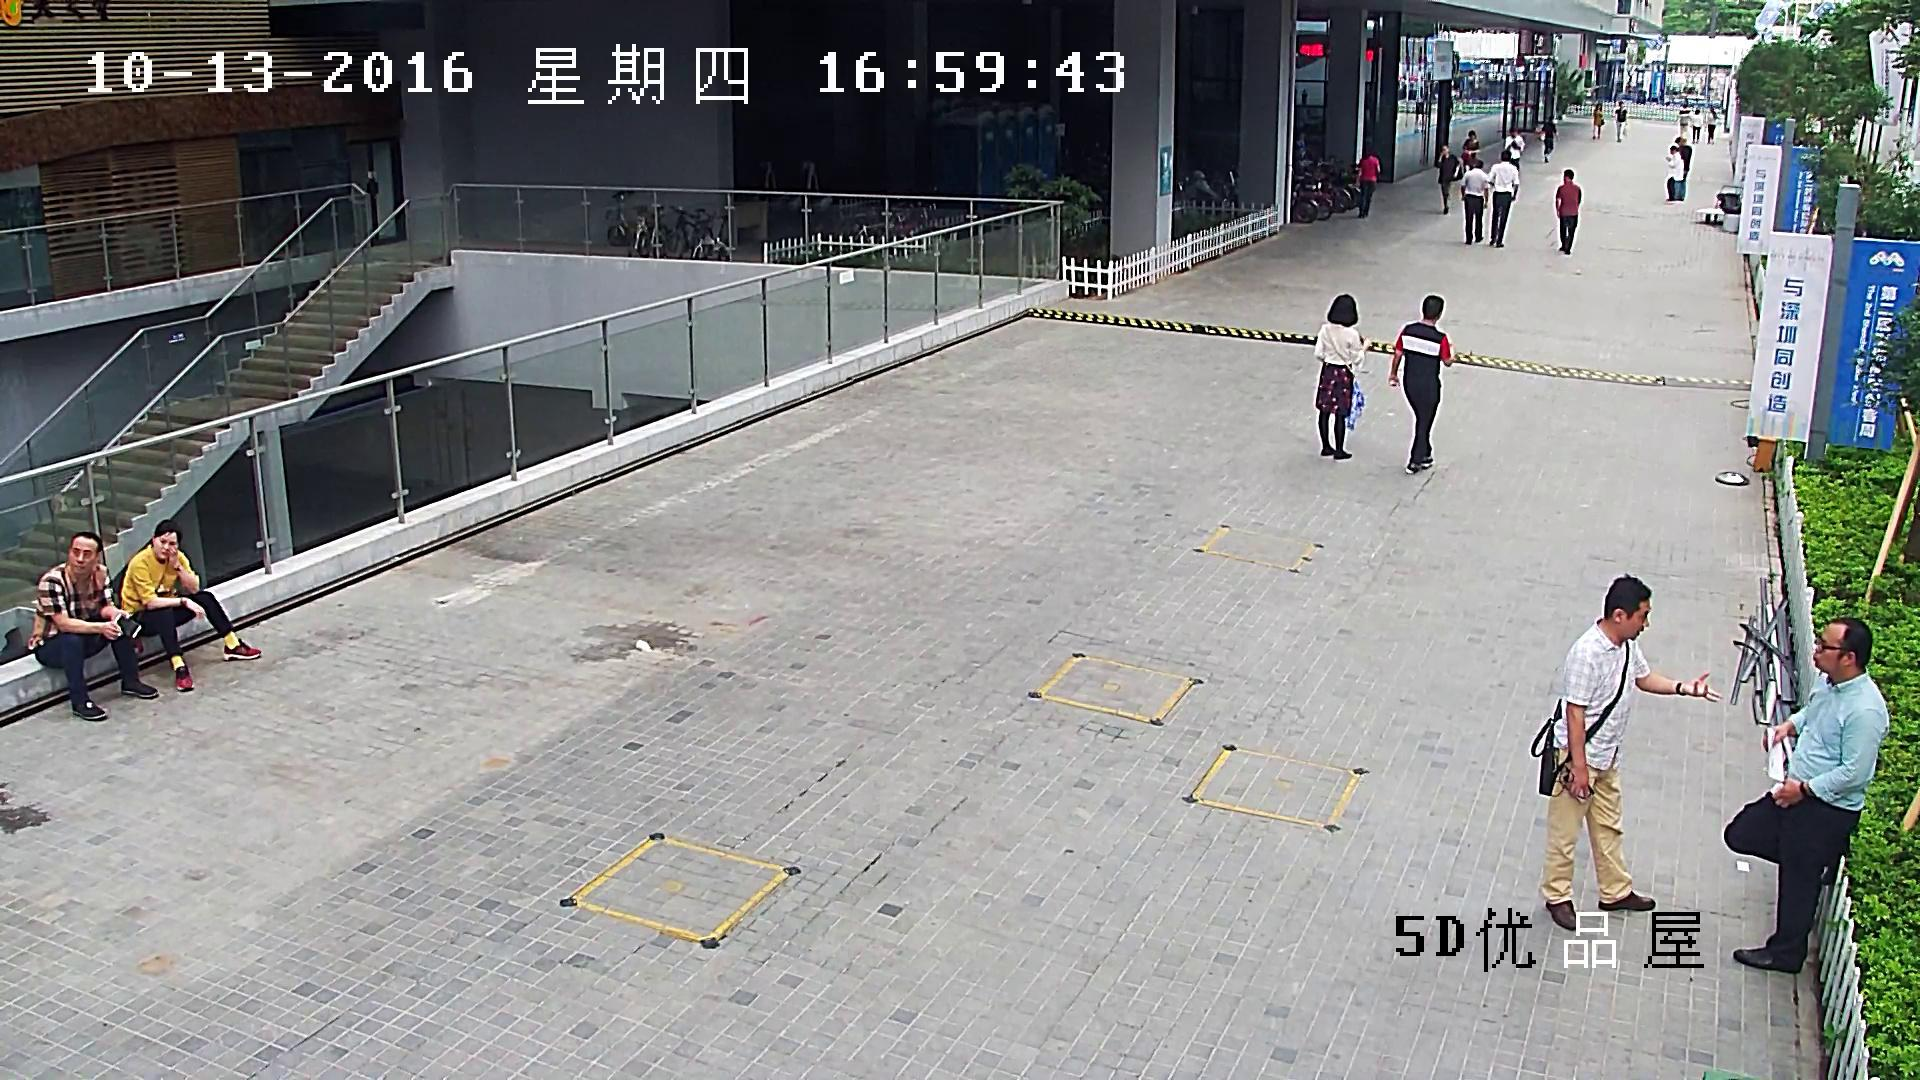person: (1530, 574, 1722, 929), (1723, 618, 1890, 973), (30, 532, 158, 721), (121, 520, 261, 691), (1388, 295, 1454, 473), (1314, 294, 1369, 459), (1488, 149, 1518, 248), (1460, 160, 1490, 244), (1556, 169, 1581, 254), (1432, 143, 1460, 213), (1355, 147, 1380, 218), (1674, 136, 1691, 201), (1665, 145, 1684, 201), (1460, 130, 1479, 172), (1503, 126, 1524, 165), (1542, 114, 1557, 163), (1676, 104, 1691, 138), (1703, 105, 1716, 143), (1615, 101, 1627, 141), (1591, 102, 1602, 139), (1690, 110, 1701, 144)
